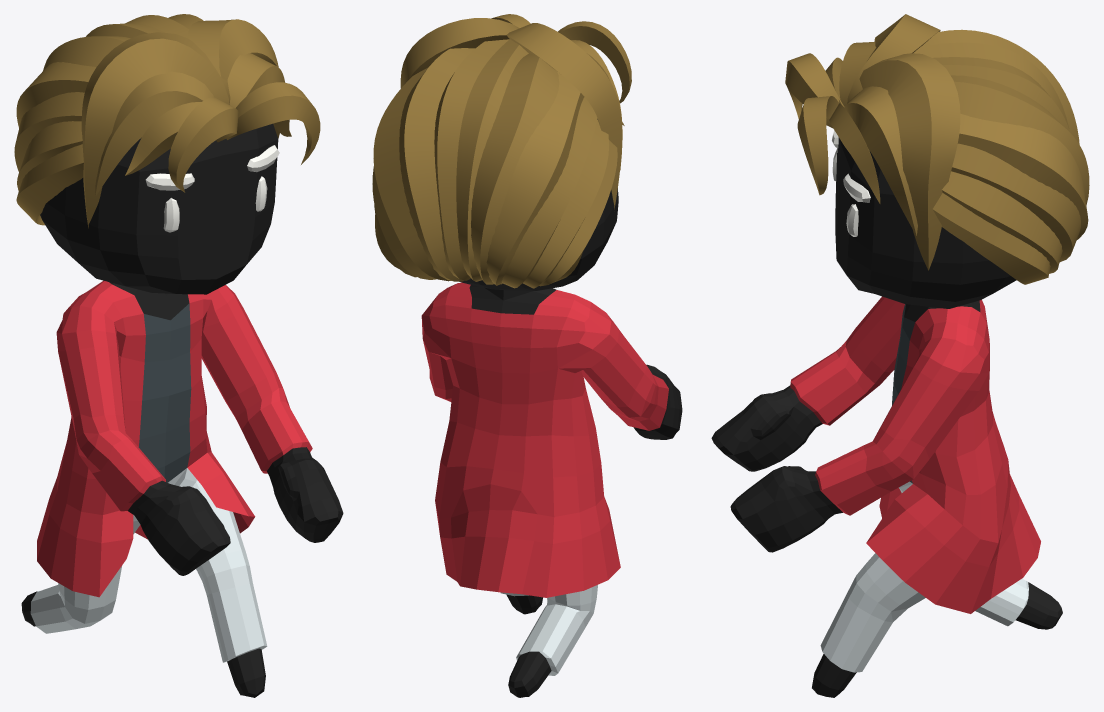
File: responder-medical.glb
3 renders of one model, left to right at view 1: azimuth 30°, elevation 25°; view 2: azimuth 150°, elevation 25°; view 3: azimuth 270°, elevation 25°, orthographic. The views are drawn at different scales.
Parts seen in each view (by area): view 1: Body.001; view 2: Body.001; view 3: Body.001.
Part boxes in pixels (x1,y1,x2,y2): Body.001: (14, 14, 343, 697); Body.001: (372, 14, 682, 697); Body.001: (711, 14, 1089, 697).
Size of the model in its own units: 1.17 by 3.17 by 1.68.
